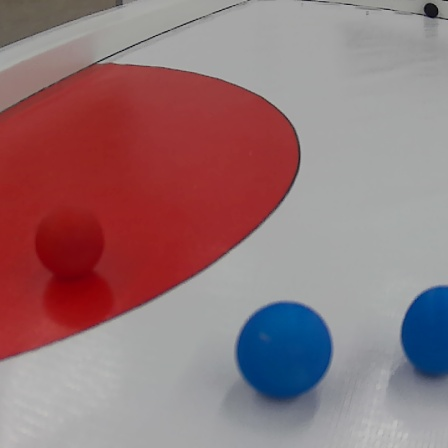blue: (233, 301, 334, 398), (399, 275, 448, 377)
red: (36, 205, 104, 282)
red_base: (1, 62, 300, 356)
